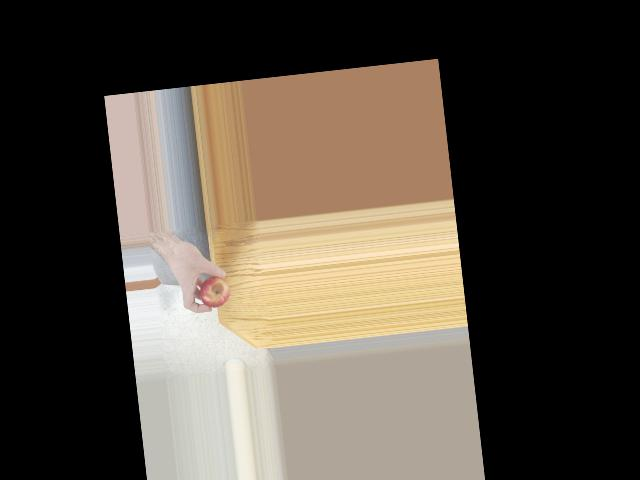apple: (200, 273, 232, 309)
